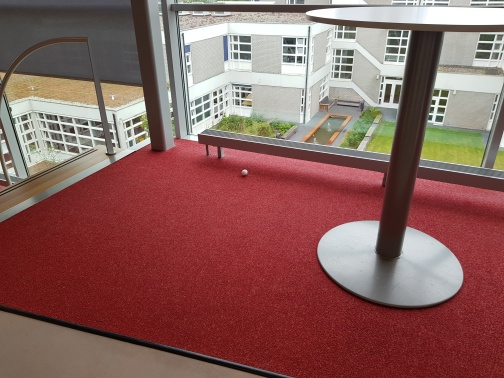egg: (239, 168, 250, 177)
